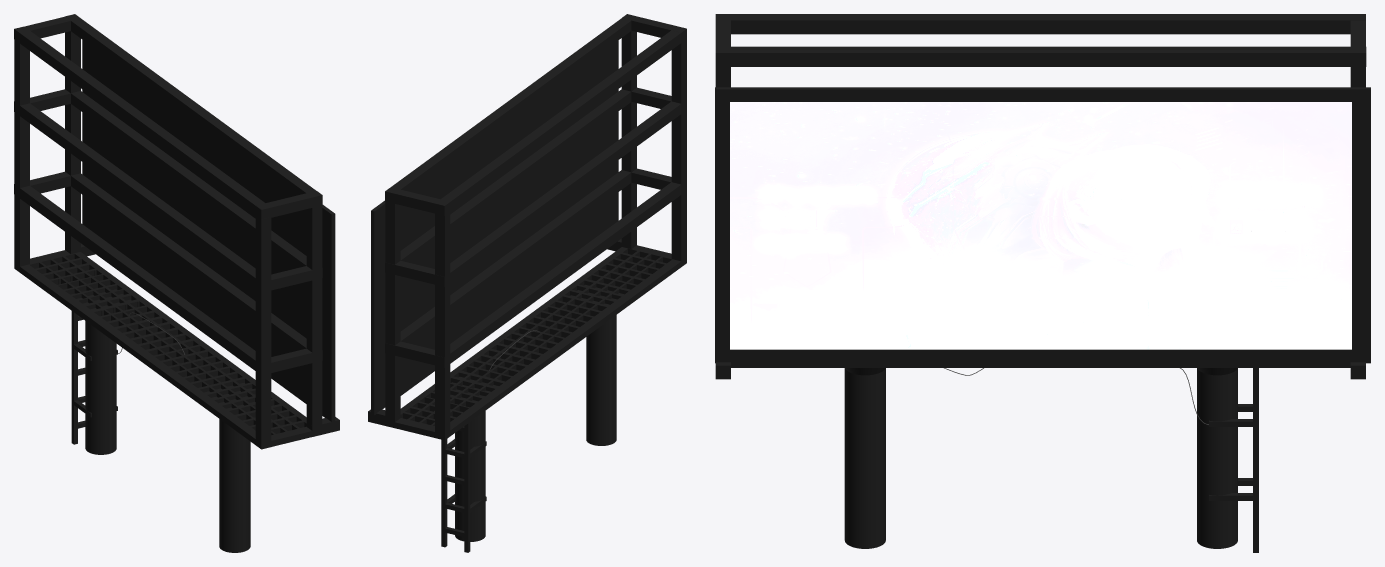
File: billboard.glb
3 renders of one model, left to right at view 1: azimuth 30°, elevation 25°; view 2: azimuth 150°, elevation 25°; view 3: azimuth 270°, elevation 25°, orthographic. The views are drawn at different scales.
Parts seen in each view (by area): view 1: Cube_3, Cube.002_5, Cube.009_12, Cube.010_14, Cube.008_13, Cylinder.001_35, Cube.007_11, Cylinder.002_6, Cube.006_10, Cube.004_8, Cube.005_9, Cube.019_23 (+6 smaller); view 2: Cube_3, Cube.002_5, Cube.009_12, Cube.008_13, Cube.010_14, Cylinder.001_35, Cube.004_8, Cube.007_11, Cube.005_9, Cylinder.002_6, Cube.006_10, Cube.019_23 (+7 smaller); view 3: Plane_2, Cube_3, Cube.009_12, Cylinder.001_35, Cylinder.002_6, Cube.002_5, Cube.020_24, Cube.016_20.
Part boxes in pixels (x1,y1,x2,y2): Cube_3: (82, 40, 335, 422); Cube.002_5: (20, 250, 312, 446); Cube.009_12: (14, 14, 322, 219); Cube.010_14: (14, 89, 306, 292); Cube.008_13: (14, 173, 310, 374); Cylinder.001_35: (219, 419, 250, 552); Cube.007_11: (255, 216, 271, 449); Cylinder.002_6: (85, 321, 116, 454); Cube.006_10: (306, 204, 322, 436); Cube.004_8: (14, 40, 29, 272); Cube.005_9: (65, 31, 80, 253); Cube.019_23: (71, 311, 77, 444); Cube_3: (371, 40, 618, 415); Cube.002_5: (395, 245, 681, 437); Cube.009_12: (385, 18, 686, 215); Cube.008_13: (385, 168, 686, 367); Cube.010_14: (385, 89, 686, 286); Cylinder.001_35: (586, 315, 616, 445); Cube.004_8: (435, 211, 450, 440); Cube.007_11: (671, 39, 686, 266); Cube.005_9: (385, 202, 400, 427); Cylinder.002_6: (455, 411, 485, 541); Cube.006_10: (621, 30, 636, 244); Cube.019_23: (464, 422, 470, 552); Plane_2: (730, 102, 1351, 349); Cube_3: (715, 87, 1370, 363); Cube.009_12: (716, 14, 1366, 66); Cylinder.001_35: (844, 368, 885, 548); Cylinder.002_6: (1197, 368, 1237, 548); Cube.002_5: (731, 363, 1350, 367); Cube.020_24: (1253, 368, 1258, 552); Cube.016_20: (715, 14, 730, 66).
Size of the model in its own units: 3.3 by 15.61 by 18.17.
3 materials, 1 textured.
